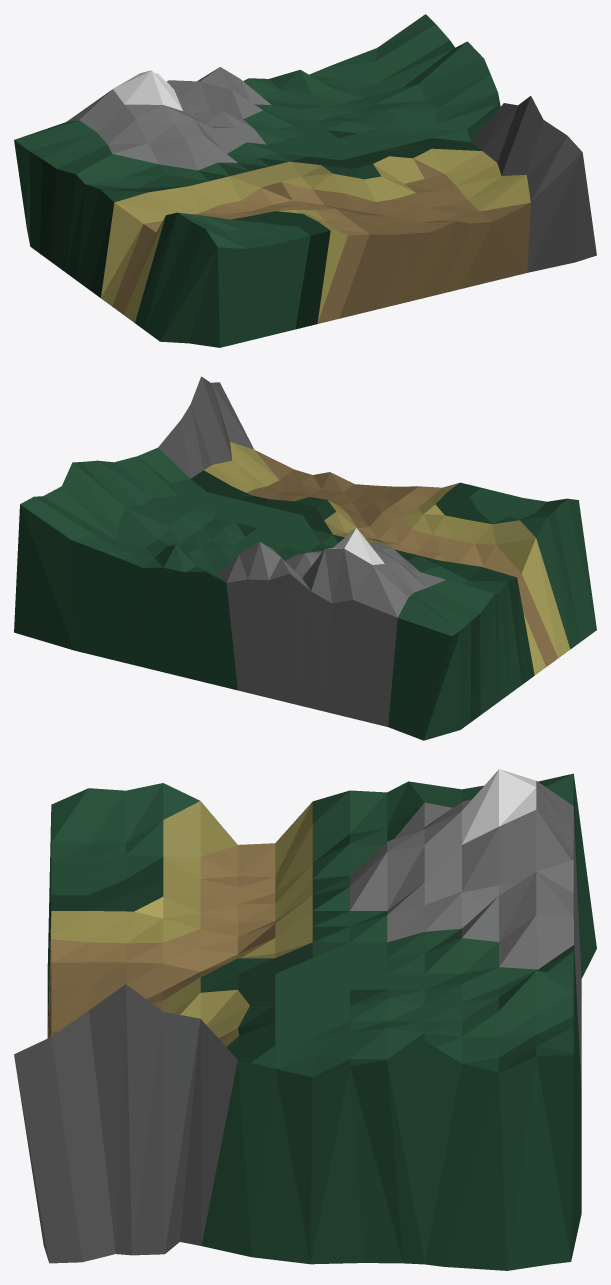
Rendered from terrain_base_final.fbx.
3 views of the same model, one above another, from view 1: azimuth 30°, elevation 25°; view 2: azimuth 150°, elevation 25°; view 3: azimuth 270°, elevation 25° (orthographic). The views are drawn at different scales.
Visible parts, largest first — view 1: terrain:pPlane1; view 2: terrain:pPlane1; view 3: terrain:pPlane1.
Part boxes in pixels (x1,y1,x2,y2): terrain:pPlane1: (14,14,596,347); terrain:pPlane1: (14,376,596,740); terrain:pPlane1: (14,769,596,1270).
Size of the model in its own units: 34.21 by 11.99 by 24.94.
